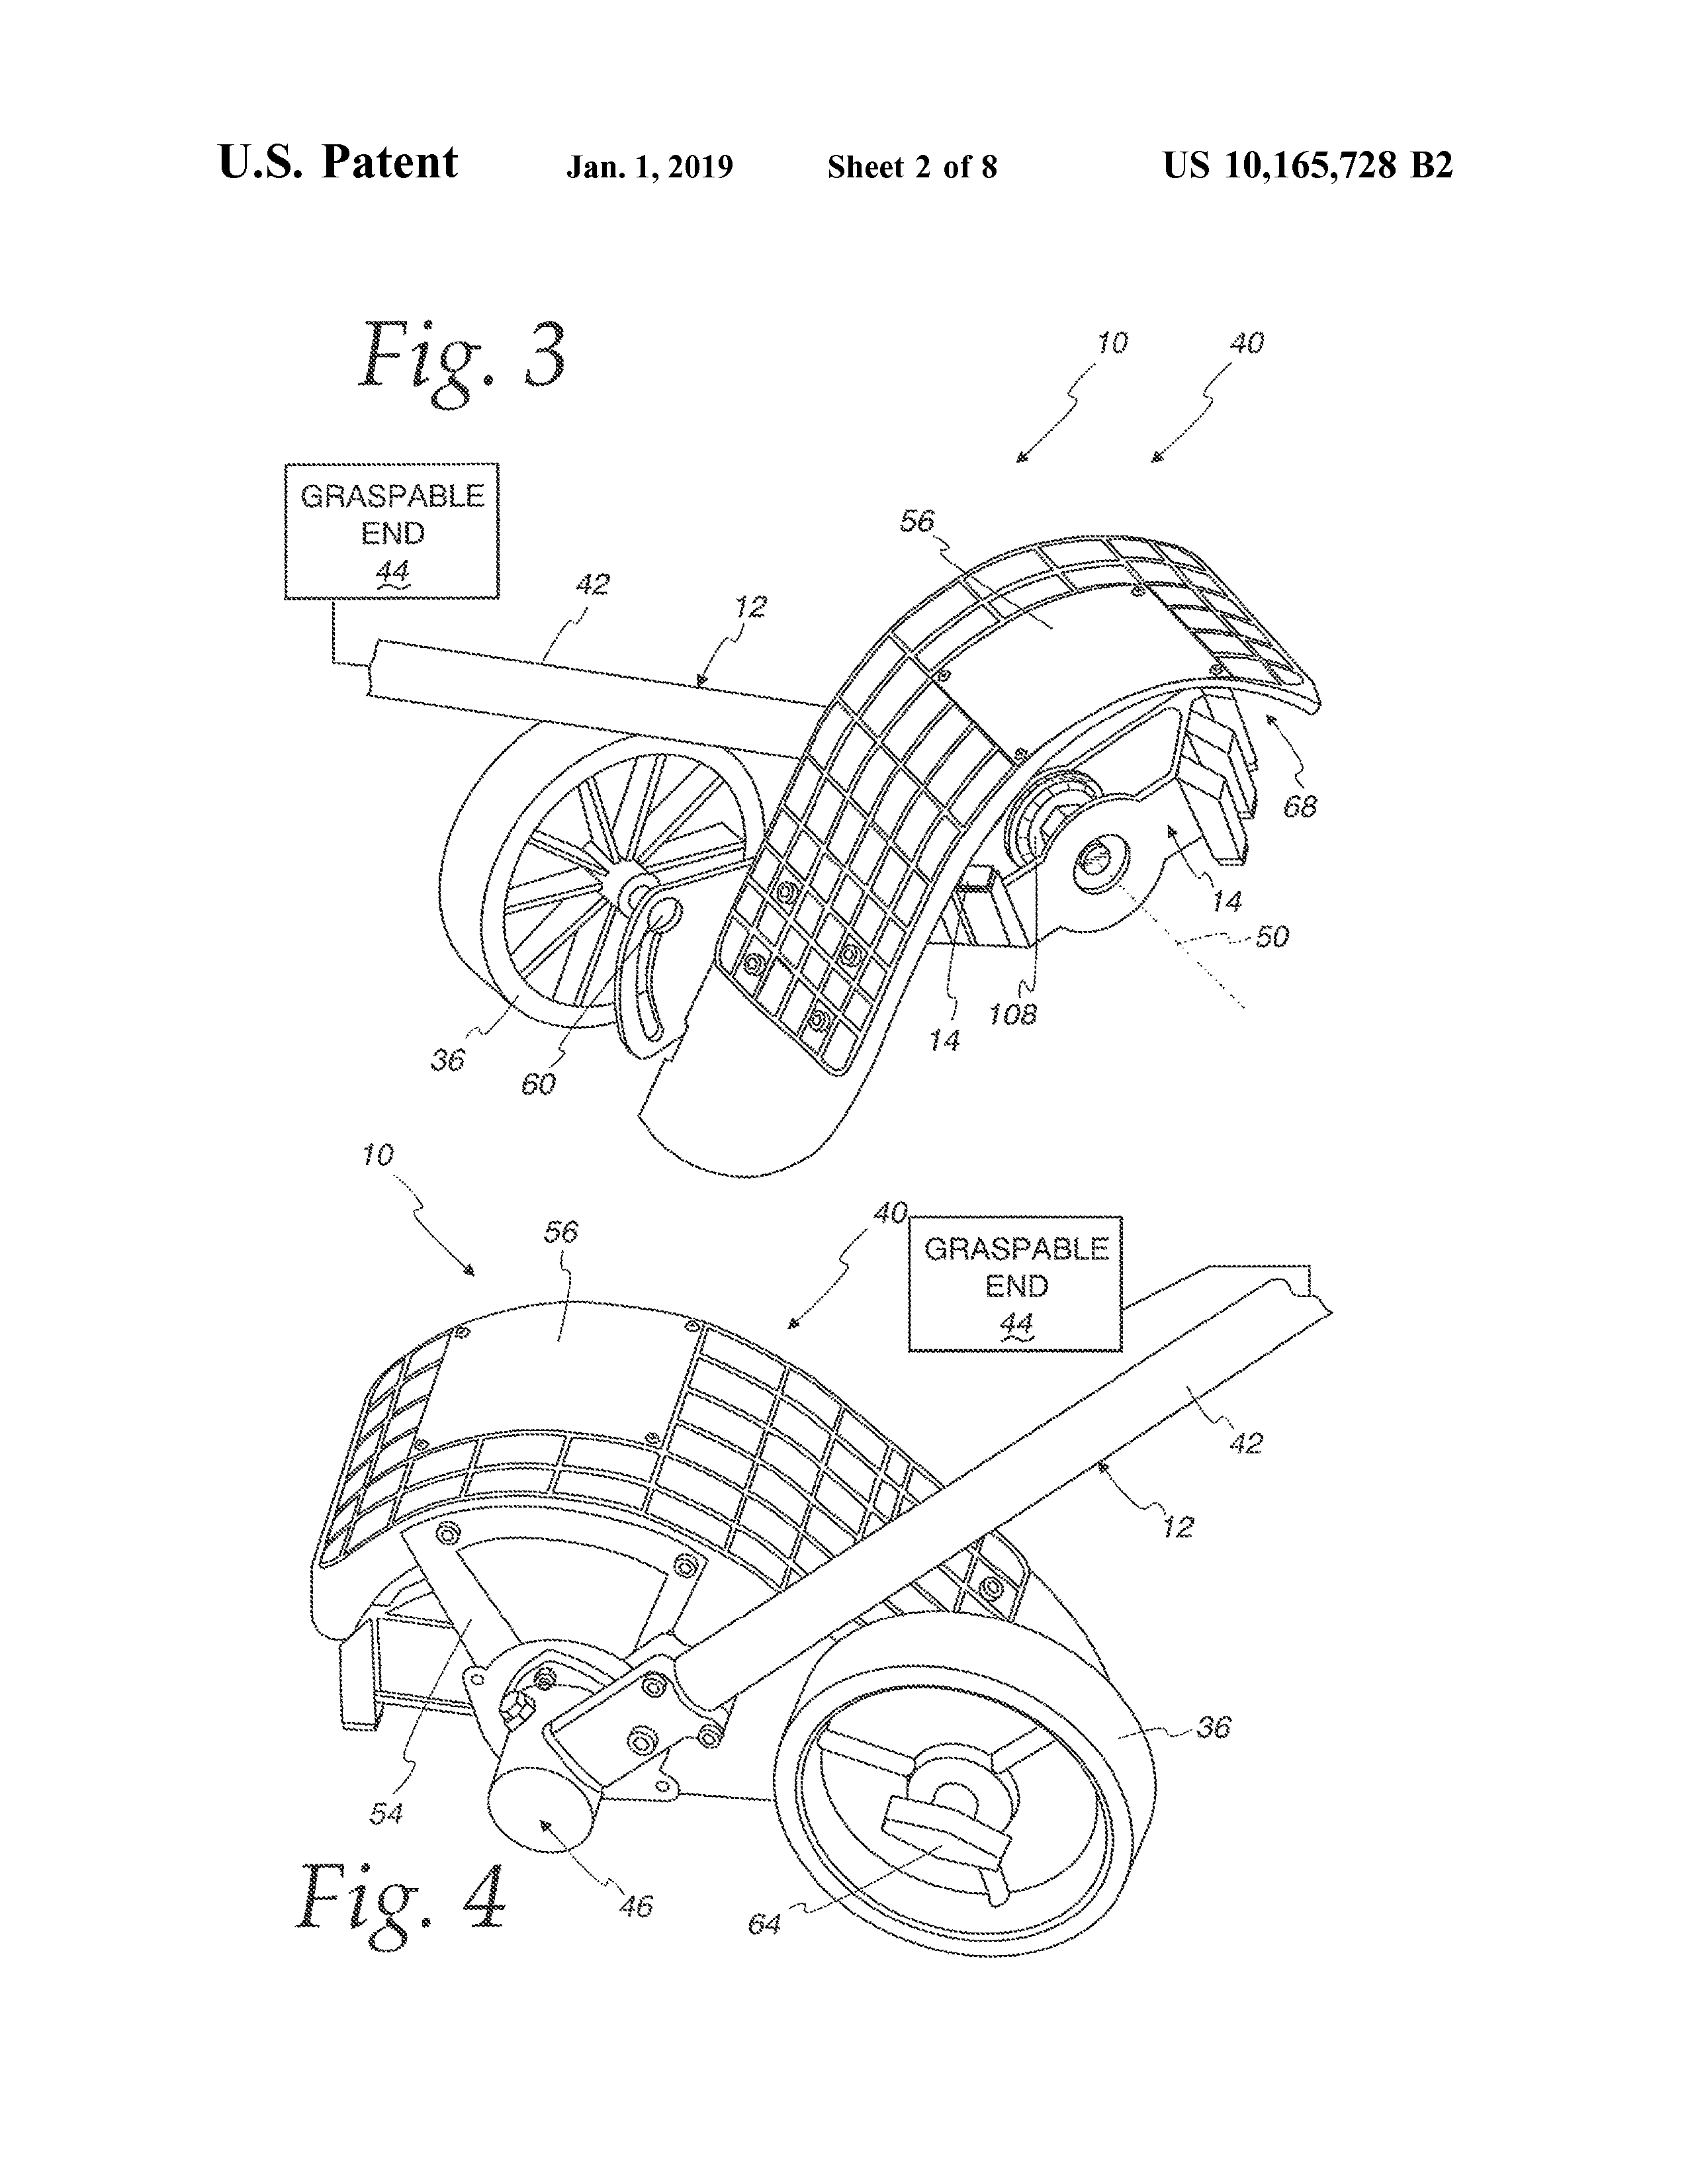patent image: (284, 236, 1395, 1185), (258, 1136, 1343, 1982)
